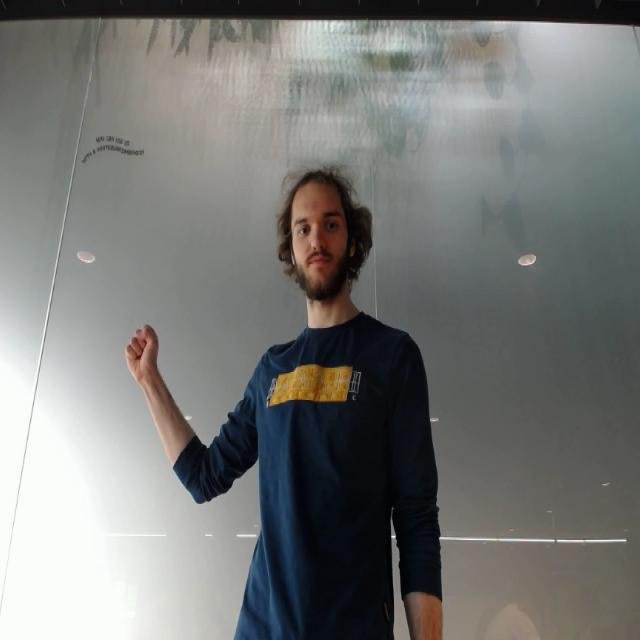stop: (121, 321, 163, 377)
